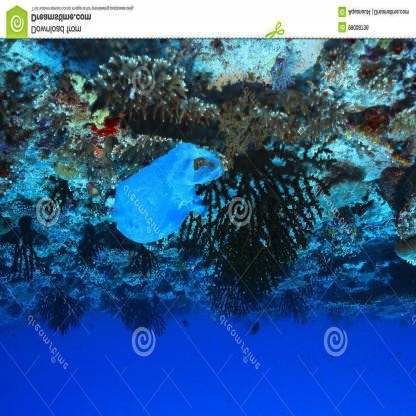pbag: (108, 135, 226, 256)
